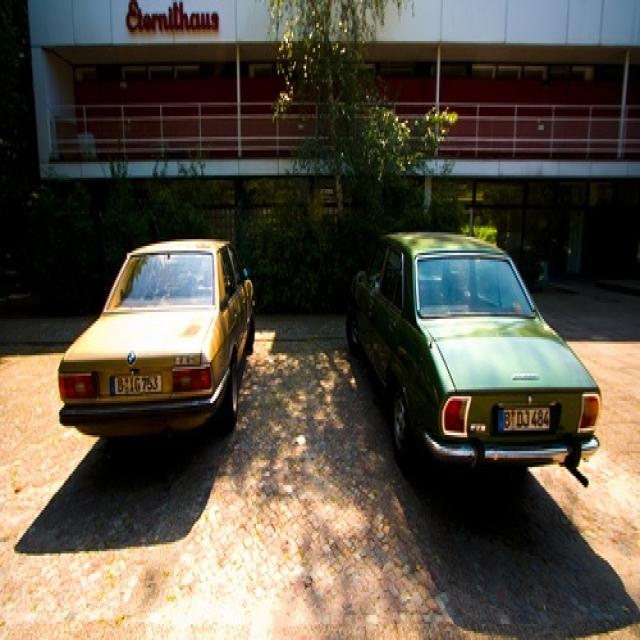car: (342, 230, 602, 487), (58, 237, 254, 442)
